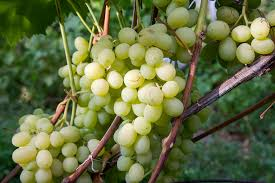grapes: (86, 34, 179, 183), (171, 6, 275, 58), (12, 113, 88, 183)
